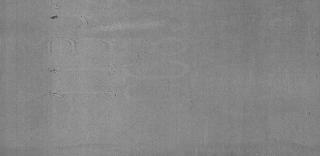oil spot: (46, 14, 62, 23)
